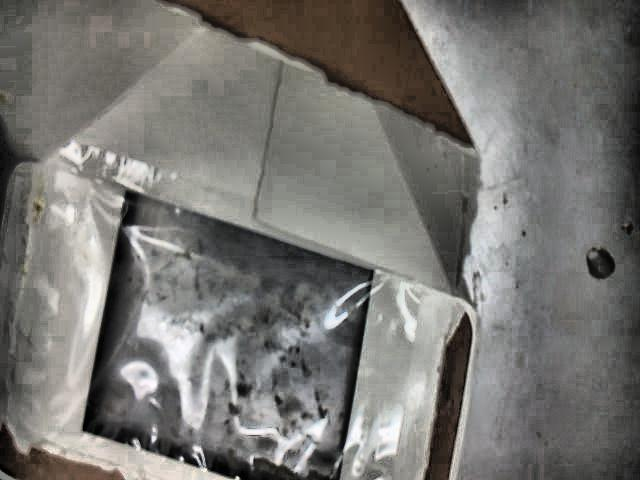Paper: (1, 0, 485, 479)
Plastic: (14, 143, 421, 478)
